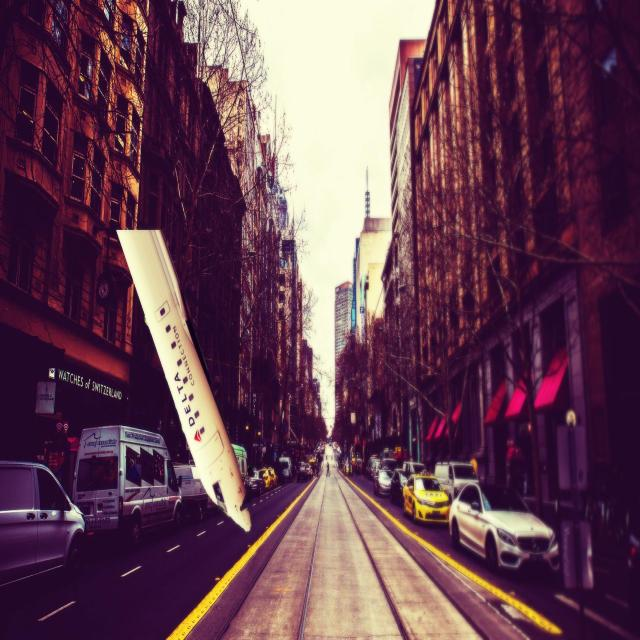airplane: (115, 227, 251, 533)
